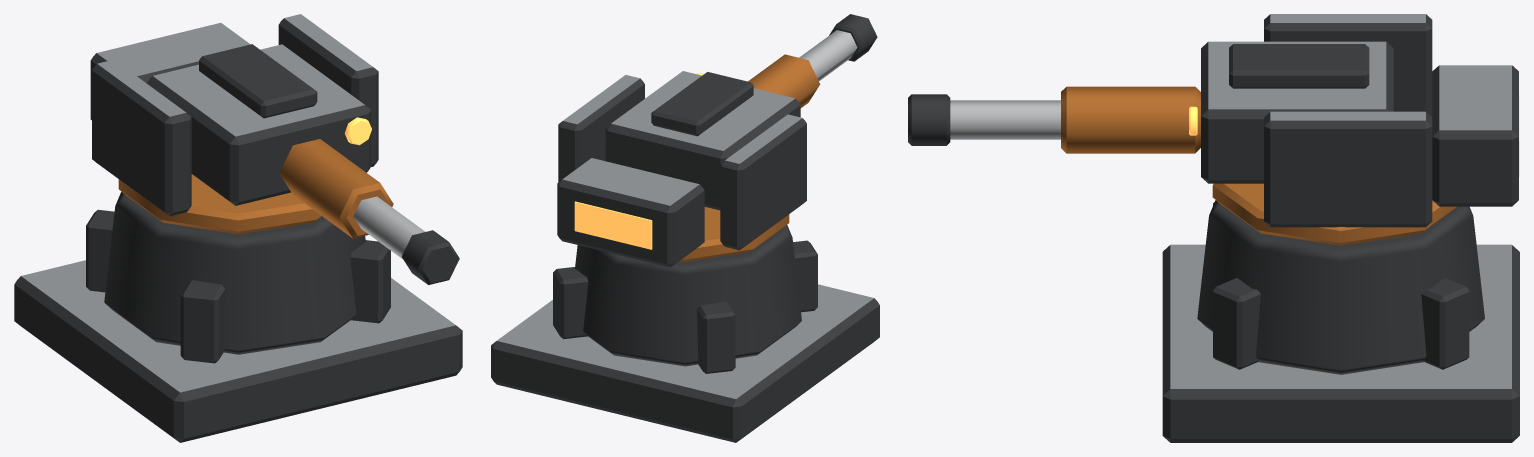
Rendered from R4W_Basic_LOD1.fbx.
The picture shows the model from 3 angles, left to right: view 1: azimuth 30°, elevation 25°; view 2: azimuth 150°, elevation 25°; view 3: azimuth 270°, elevation 25°; orthographic projection. The views are drawn at different scales.
Visible parts, largest first — view 1: R4W_Basic_LOD1; view 2: R4W_Basic_LOD1; view 3: R4W_Basic_LOD1.
Boxes of the visible parts, left/top/right/bottom form: R4W_Basic_LOD1: left=14, top=14, right=462, bottom=442; R4W_Basic_LOD1: left=491, top=14, right=879, bottom=442; R4W_Basic_LOD1: left=908, top=14, right=1519, bottom=442.
Bounding box in the file's own units: 0.51 × 0.494 × 0.873.
